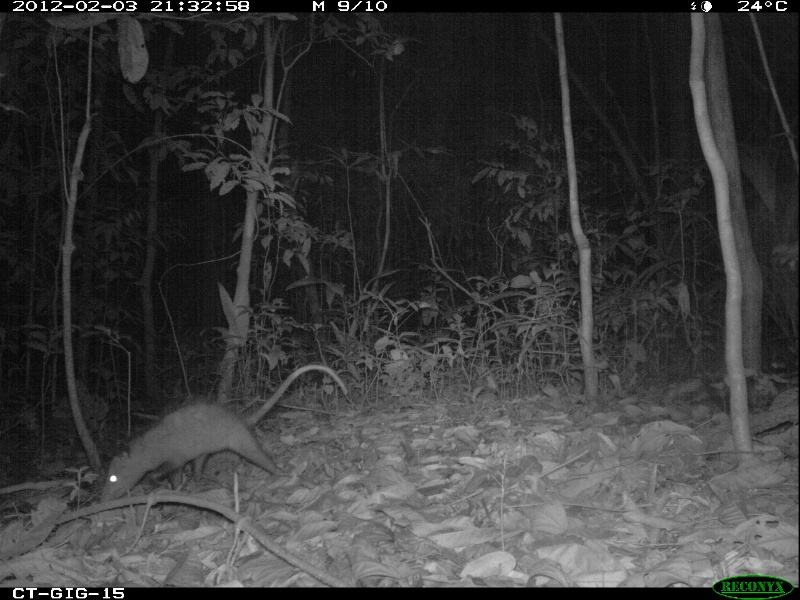opossum: (97, 355, 352, 510)
